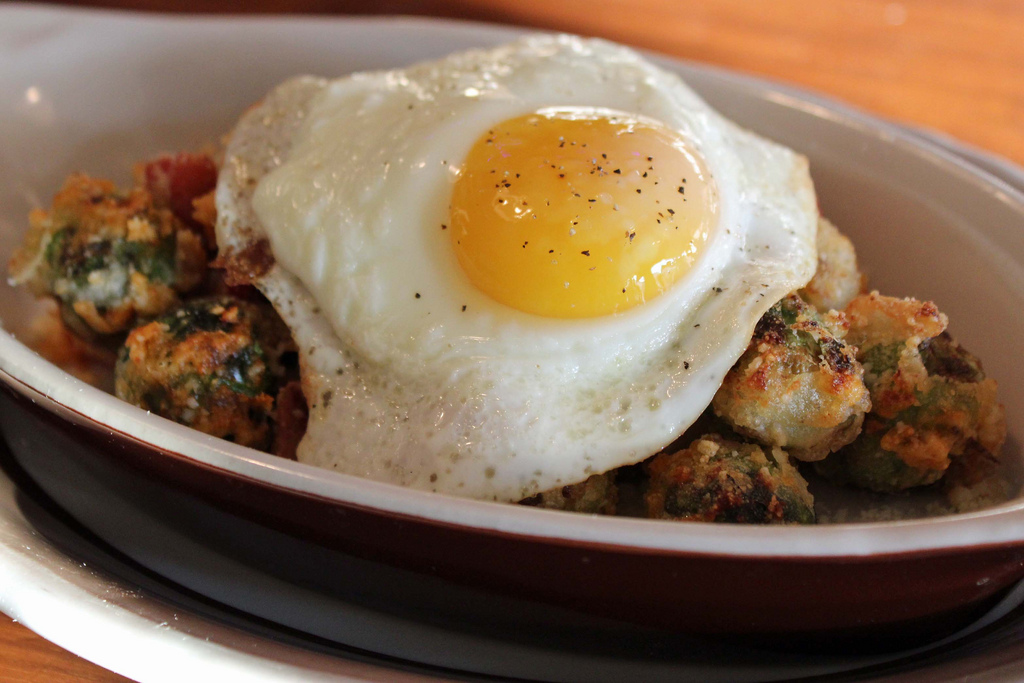fried egg: (271, 48, 821, 497)
